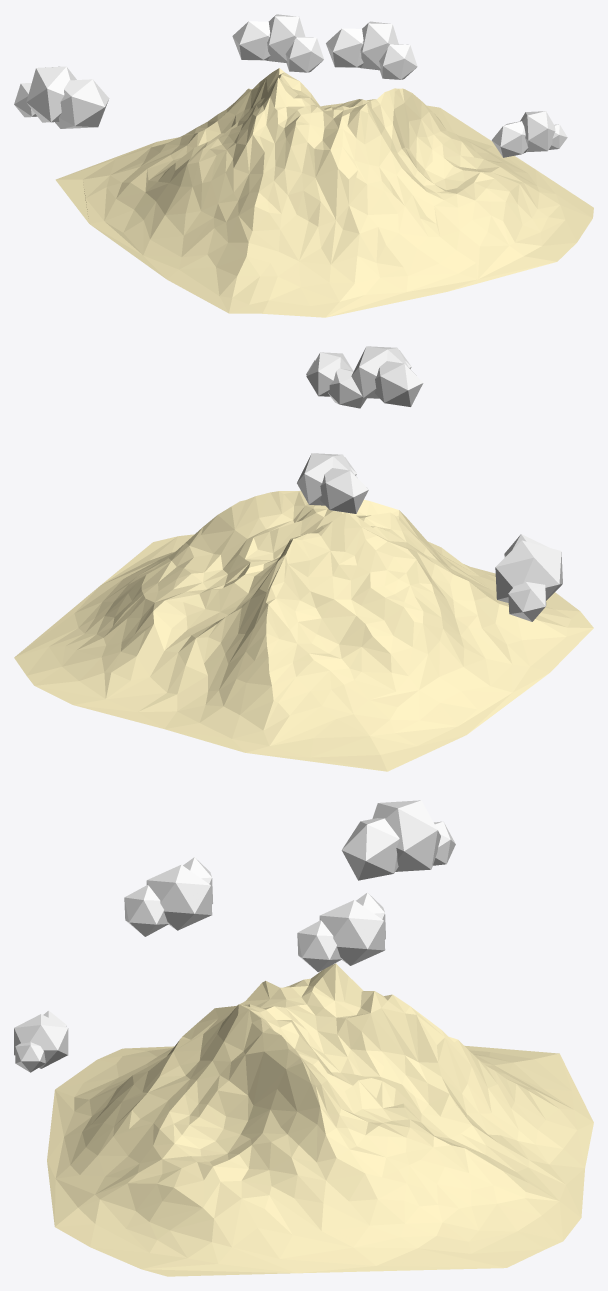
File: landscape.fbx
3 views of the same model, one above another, from view 1: azimuth 30°, elevation 25°; view 2: azimuth 150°, elevation 25°; view 3: azimuth 270°, elevation 25° (orthographic). The views are drawn at different scales.
Visible parts, largest first — view 1: landscape, sky_3, sky_4, sky_2, sky_1; view 2: landscape, sky_3, sky_4, sky_2, sky_1; view 3: landscape, sky_3, sky_4, sky_2, sky_1.
Part boxes in pixels (x1,y1,x2,y2): landscape: (55, 68, 593, 317); sky_3: (14, 66, 109, 128); sky_4: (326, 21, 417, 79); sky_2: (232, 14, 323, 72); sky_1: (491, 111, 567, 157); landscape: (14, 490, 593, 771); sky_3: (495, 534, 562, 621); sky_4: (351, 346, 423, 406); sky_2: (297, 453, 368, 513); sky_1: (306, 352, 366, 408); landscape: (47, 963, 593, 1276); sky_3: (341, 800, 455, 880); sky_4: (124, 857, 212, 936); sky_2: (297, 892, 385, 972); sky_1: (14, 1010, 68, 1072).
Size of the model in its own units: 1076 by 512 by 953.
